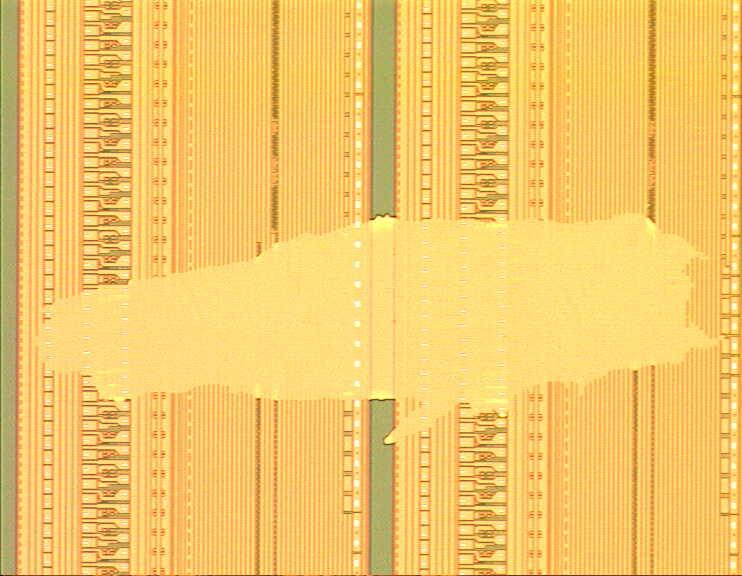BLOCK ETCH: (41, 214, 723, 445)
